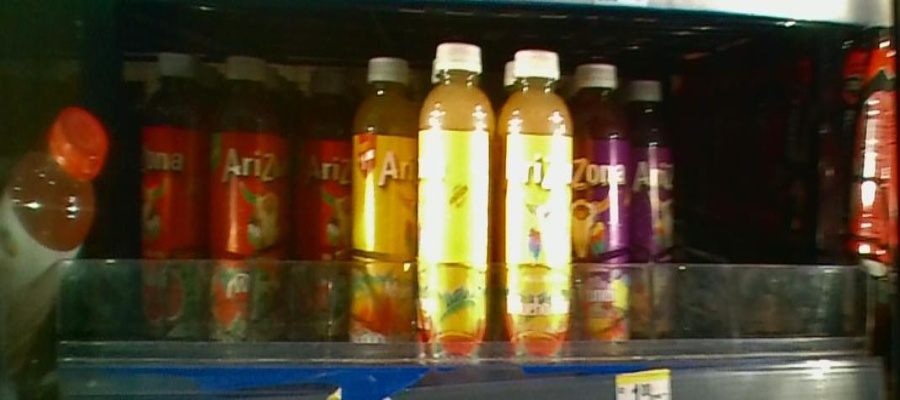bottle: (493, 39, 573, 355), (418, 34, 492, 366), (351, 46, 418, 359), (136, 45, 205, 348), (209, 45, 276, 350), (574, 55, 627, 366), (296, 64, 350, 358), (631, 68, 674, 354)
